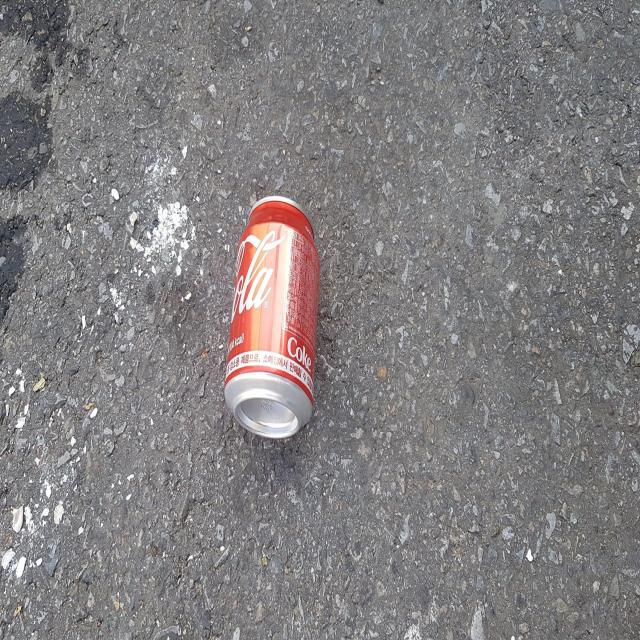can: (224, 196, 320, 438)
